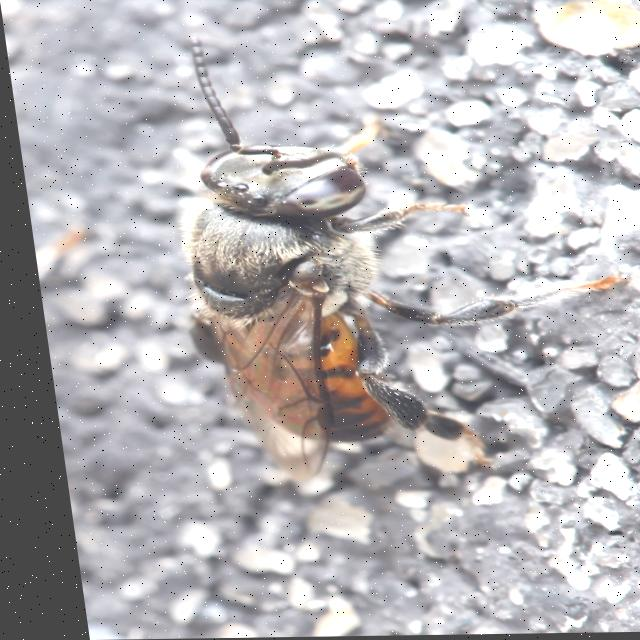Meliponula: (152, 19, 640, 490)
